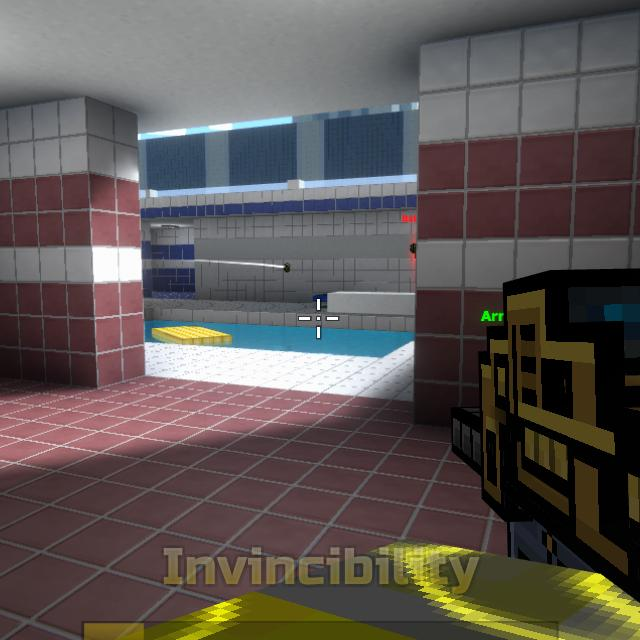Enemy: (411, 242, 417, 258)
